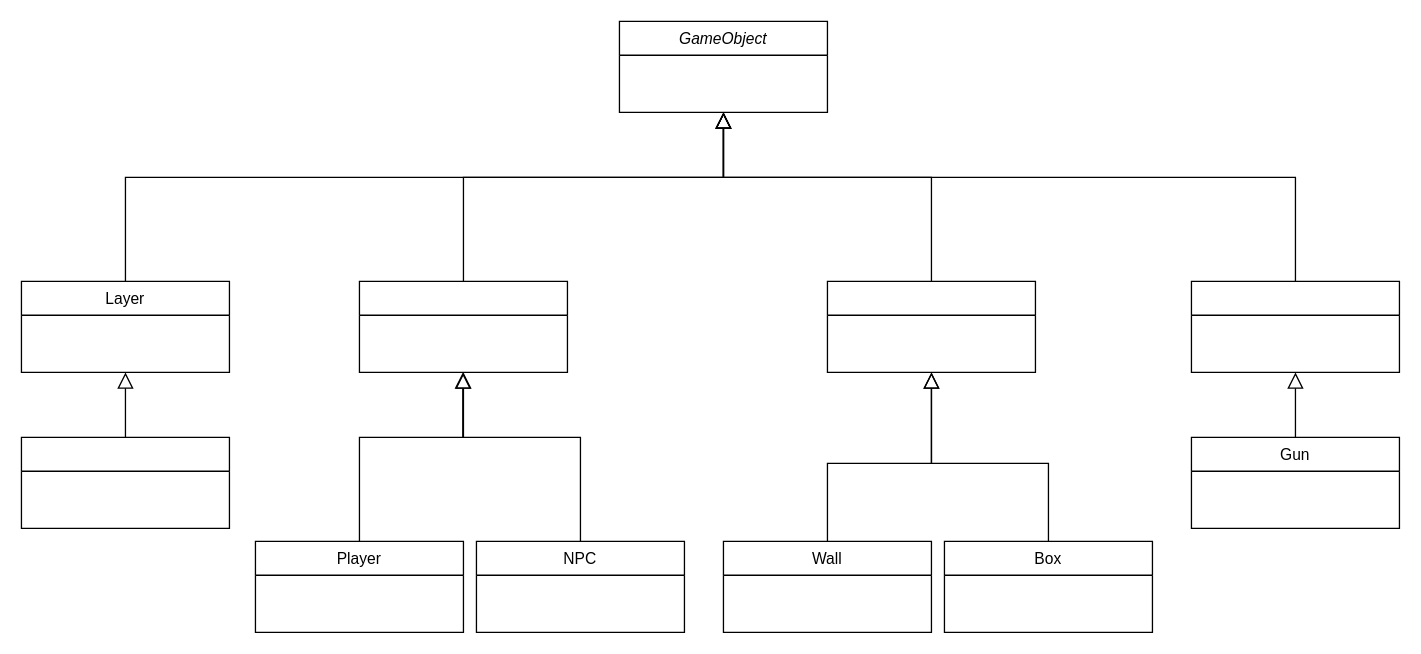
The diagram is 1421 pixels wide and 654 high, and some of its shapes have lost their labels. Each missing label, with the centre of its shape:
Character: point (462, 326)
Item: point (1294, 326)
Obstacle: point (930, 326)
Stage: point (124, 482)
